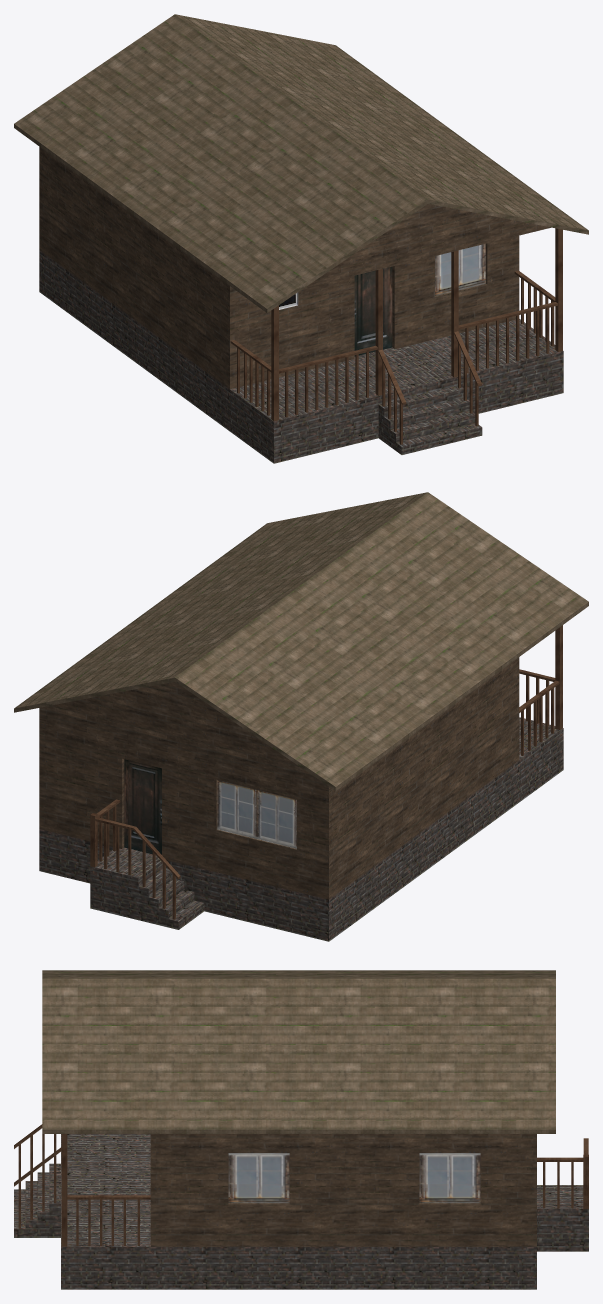
The model's file is house4_tex2.glb.
3 renders of one model, top to bottom at view 1: azimuth 30°, elevation 25°; view 2: azimuth 150°, elevation 25°; view 3: azimuth 270°, elevation 25°, orthographic.
Visible parts, largest first — view 1: house4, house4_door1, house4_windows; view 2: house4, house4_windows, house4_door2; view 3: house4, house4_windows.
Boxes of the visible parts, x1,y1,x2,y2 form: house4: [14, 14, 588, 463]; house4_door1: [354, 266, 392, 356]; house4_windows: [279, 243, 487, 309]; house4: [14, 492, 588, 941]; house4_windows: [216, 779, 296, 849]; house4_door2: [124, 759, 161, 854]; house4: [14, 970, 588, 1289]; house4_windows: [228, 1153, 480, 1204].
Bounding box in the file's own units: 8 × 5.6 × 12.2.
Materials: 1 (1 with a texture image).
